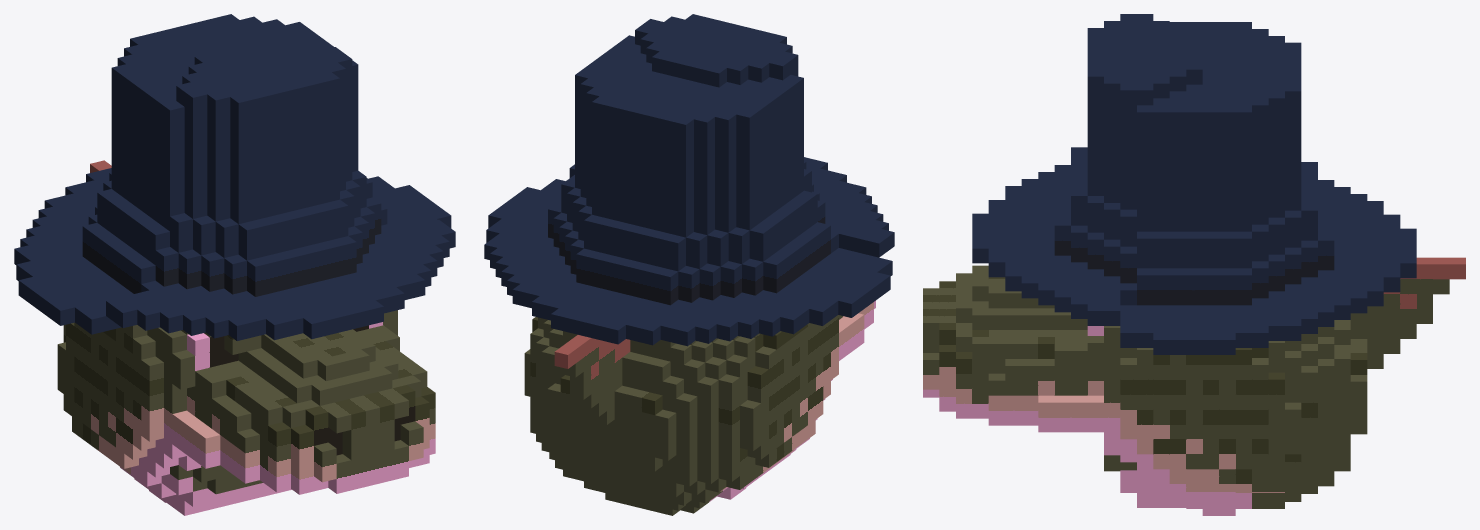
File: top hat_rainbow shades.gltf
The picture shows the model from 3 angles, left to right: view 1: azimuth 30°, elevation 25°; view 2: azimuth 150°, elevation 25°; view 3: azimuth 270°, elevation 25°; orthographic projection. The views are drawn at different scales.
Parts seen in each view (by area): view 1: C53_H_TopH_CoolD_3D_RBShade-Mesh; view 2: C53_H_TopH_CoolD_3D_RBShade-Mesh; view 3: C53_H_TopH_CoolD_3D_RBShade-Mesh.
Part boxes in pixels (bbox=[...]): C53_H_TopH_CoolD_3D_RBShade-Mesh: bbox=[14, 14, 455, 515]; C53_H_TopH_CoolD_3D_RBShade-Mesh: bbox=[484, 14, 894, 515]; C53_H_TopH_CoolD_3D_RBShade-Mesh: bbox=[923, 14, 1465, 515].
Size of the model in its own units: 27 by 29 by 33.
1 material, 1 textured.
